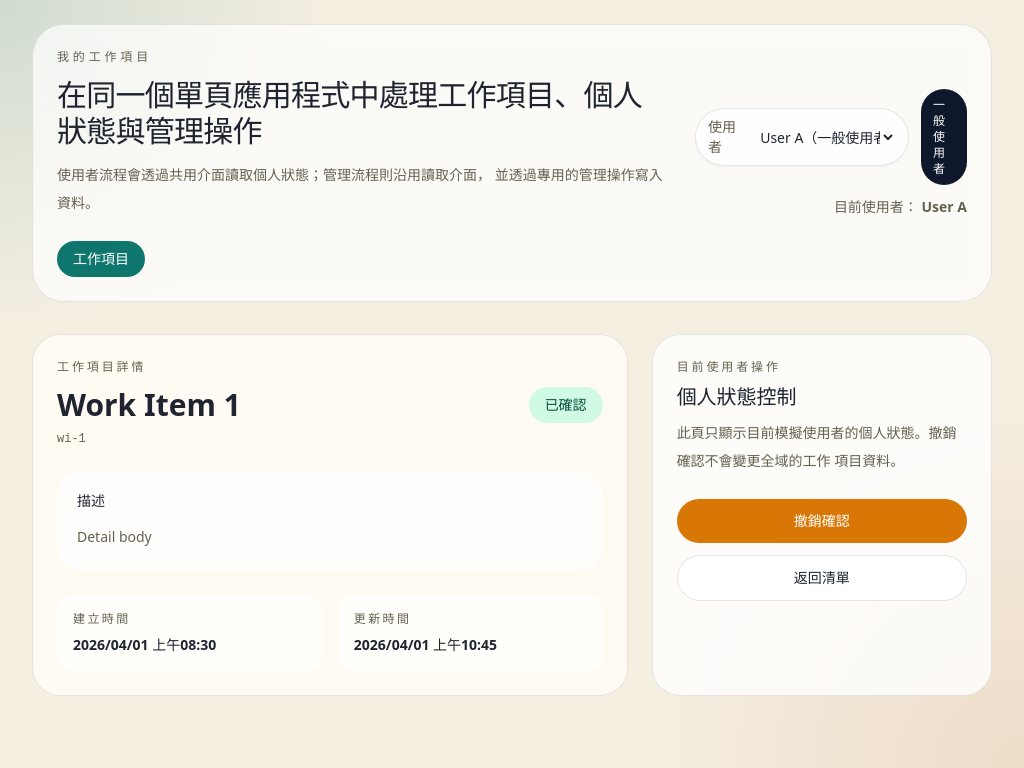
Test case: WorkItemDetailPage › WorkItemDetailPage_WhenRevertSucceeds_RendersPendingState
Check: the heading "Work Item 1" is shown, box [57,387,241,423]
Click the button "撤銷確認" at coordinates (822, 521), box [677,499,967,543]
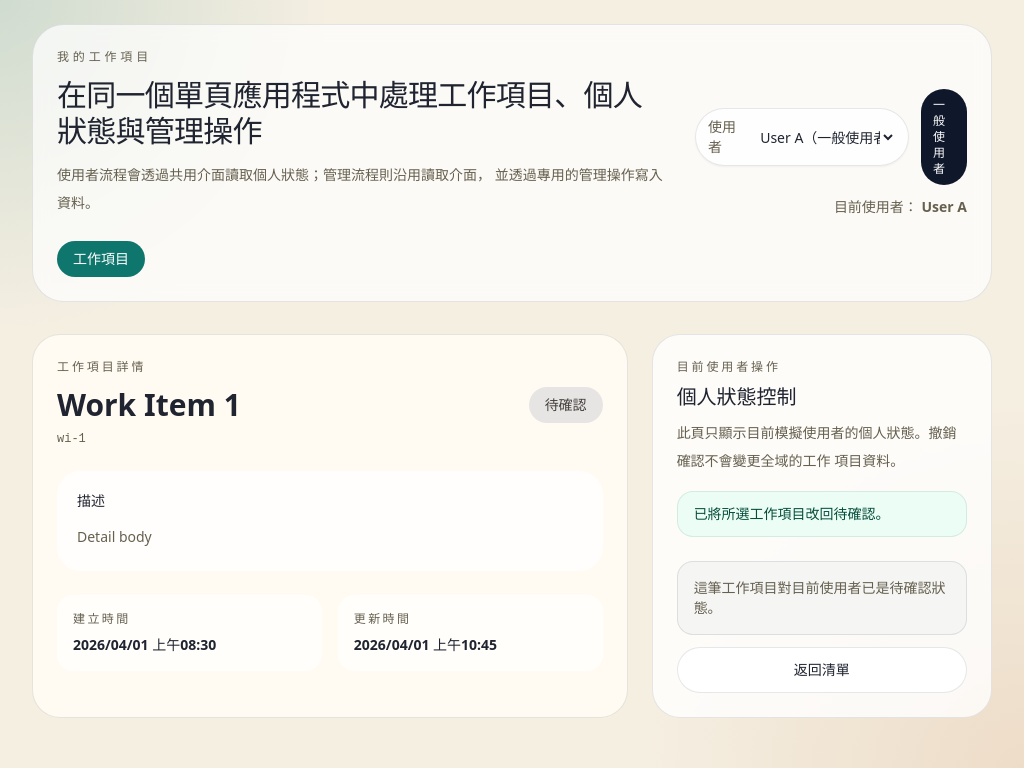
Check: the text "已將所選工作項目改回待確認。" is shown, box [677,491,967,537]
Check: the text "這筆工作項目對目前使用者已是待確認狀態。" is shown, box [677,561,967,635]
